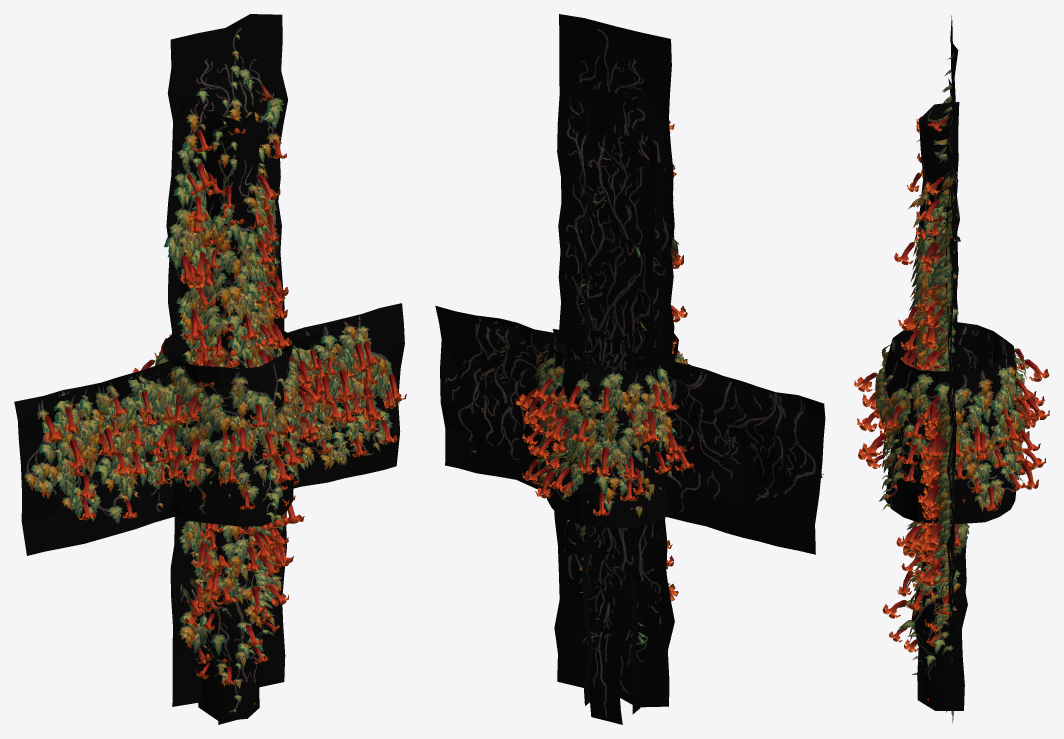
Rendered from IvyFlowering_R.FBX.
The picture shows the model from 3 angles, left to right: view 1: azimuth 30°, elevation 25°; view 2: azimuth 150°, elevation 25°; view 3: azimuth 270°, elevation 25°; orthographic projection. The views are drawn at different scales.
Parts seen in each view (by area): view 1: IvyWallWD_1_FR, IvyCyllUW_2_FR, IvyWallU_2_FR, IvyCyllU_FR, IvyWallWD_2_FR, IvyCyllD_FR, IvyWallD_1_FR, IvyWallU_1_FR, IvyCyllUW_1_FR, IvyWallD_2_FR, IvyWallU_3_FR, IvyWallCD_1_FR; view 2: IvyWallWD_1_FR, IvyWallU_2_FR, IvyCyllUW_2_FR, IvyWallWD_2_FR, IvyWallD_1_FR, IvyWallU_1_FR, IvyWallU_3_FR, IvyWallD_6_FR, IvyCyllUW_1_FR, IvyWallD_2_FR, IvyCyllD_FR, IvyWallD_3_FR (+4 smaller); view 3: IvyCyllUW_2_FR, IvyCyllD_FR, IvyCyllU_FR, IvyWallWD_1_FR, IvyWallU_2_FR, IvyWallU_1_FR, IvyCyllUW_1_FR, IvyWallD_1_FR, IvyWallWD_2_FR, IvyWallU_3_FR.
Boxes of the visible parts, x1,y1,x2,y2 form: IvyWallWD_1_FR: (14, 303, 406, 555); IvyCyllUW_2_FR: (133, 329, 322, 526); IvyWallU_2_FR: (164, 14, 292, 365); IvyCyllU_FR: (186, 98, 285, 386); IvyWallWD_2_FR: (45, 311, 398, 529); IvyCyllD_FR: (183, 367, 288, 721); IvyWallD_1_FR: (170, 354, 304, 706); IvyWallU_1_FR: (177, 95, 288, 364); IvyCyllUW_1_FR: (165, 348, 302, 499); IvyWallD_2_FR: (179, 336, 277, 621); IvyWallU_3_FR: (196, 121, 283, 367); IvyWallCD_1_FR: (151, 334, 315, 461); IvyWallWD_1_FR: (435, 305, 825, 554); IvyWallU_2_FR: (557, 14, 683, 376); IvyCyllUW_2_FR: (515, 328, 694, 528); IvyWallWD_2_FR: (441, 314, 795, 524); IvyWallD_1_FR: (552, 329, 678, 707); IvyWallU_1_FR: (567, 77, 687, 370); IvyWallU_3_FR: (580, 124, 657, 369); IvyWallD_6_FR: (589, 330, 625, 724); IvyCyllUW_1_FR: (539, 342, 684, 517); IvyWallD_2_FR: (565, 339, 669, 643); IvyCyllD_FR: (567, 350, 673, 714); IvyWallD_3_FR: (571, 332, 656, 606); IvyCyllUW_2_FR: (854, 322, 1049, 523); IvyCyllD_FR: (882, 344, 969, 710); IvyCyllU_FR: (894, 102, 960, 371); IvyWallWD_1_FR: (917, 378, 957, 583); IvyWallU_2_FR: (916, 15, 959, 385); IvyWallU_1_FR: (914, 78, 959, 370); IvyCyllUW_1_FR: (874, 334, 1029, 503); IvyWallD_1_FR: (915, 362, 957, 713); IvyWallWD_2_FR: (922, 300, 957, 550); IvyWallU_3_FR: (916, 159, 957, 371).
Size of the model in its own units: 183 by 316 by 82.69.
